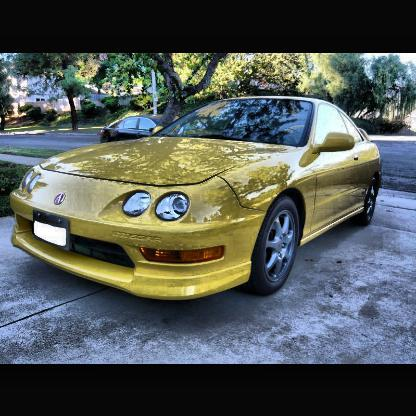Acura Integra Type R 2001: (10, 94, 383, 308)
